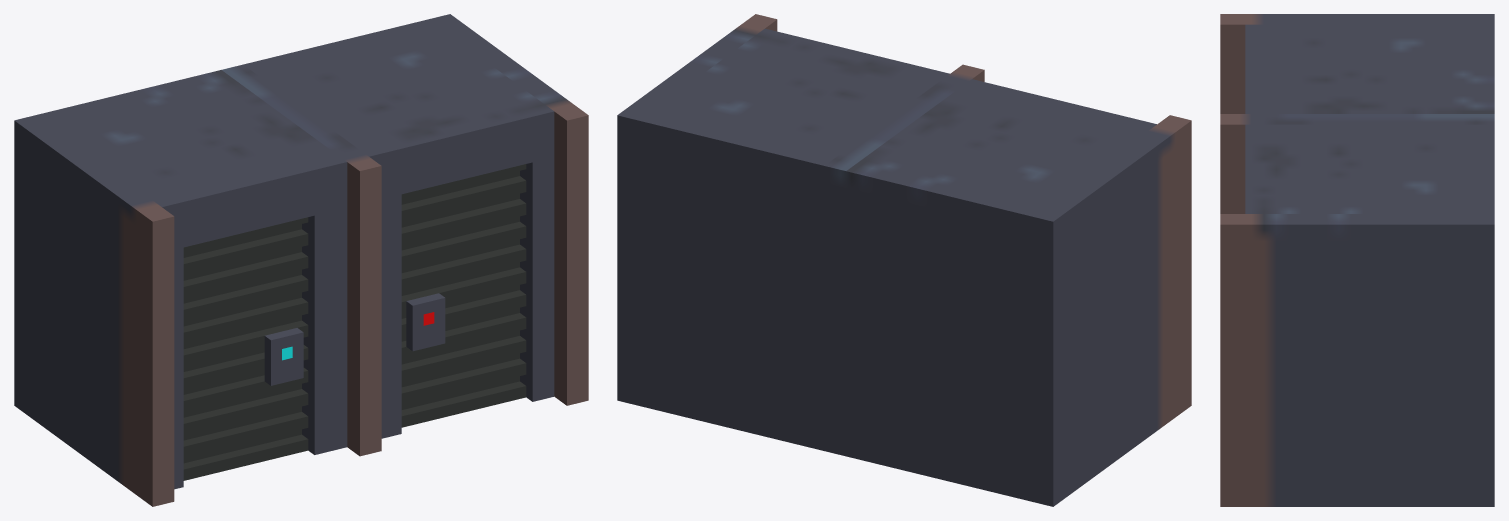
The model's file is BuildingBlock-19.fbx.
3 views of the same model, side by side, from view 1: azimuth 30°, elevation 25°; view 2: azimuth 150°, elevation 25°; view 3: azimuth 270°, elevation 25° (orthographic).
Parts seen in each view (by area): view 1: BuildingBlock_19; view 2: BuildingBlock_19; view 3: BuildingBlock_19.
Part boxes in pixels (x1,y1,x2,y2): BuildingBlock_19: (14,14,588,506); BuildingBlock_19: (617,14,1191,506); BuildingBlock_19: (1220,14,1494,506).
Size of the model in its own units: 400 by 250 by 220.
2 materials, 2 textured.
